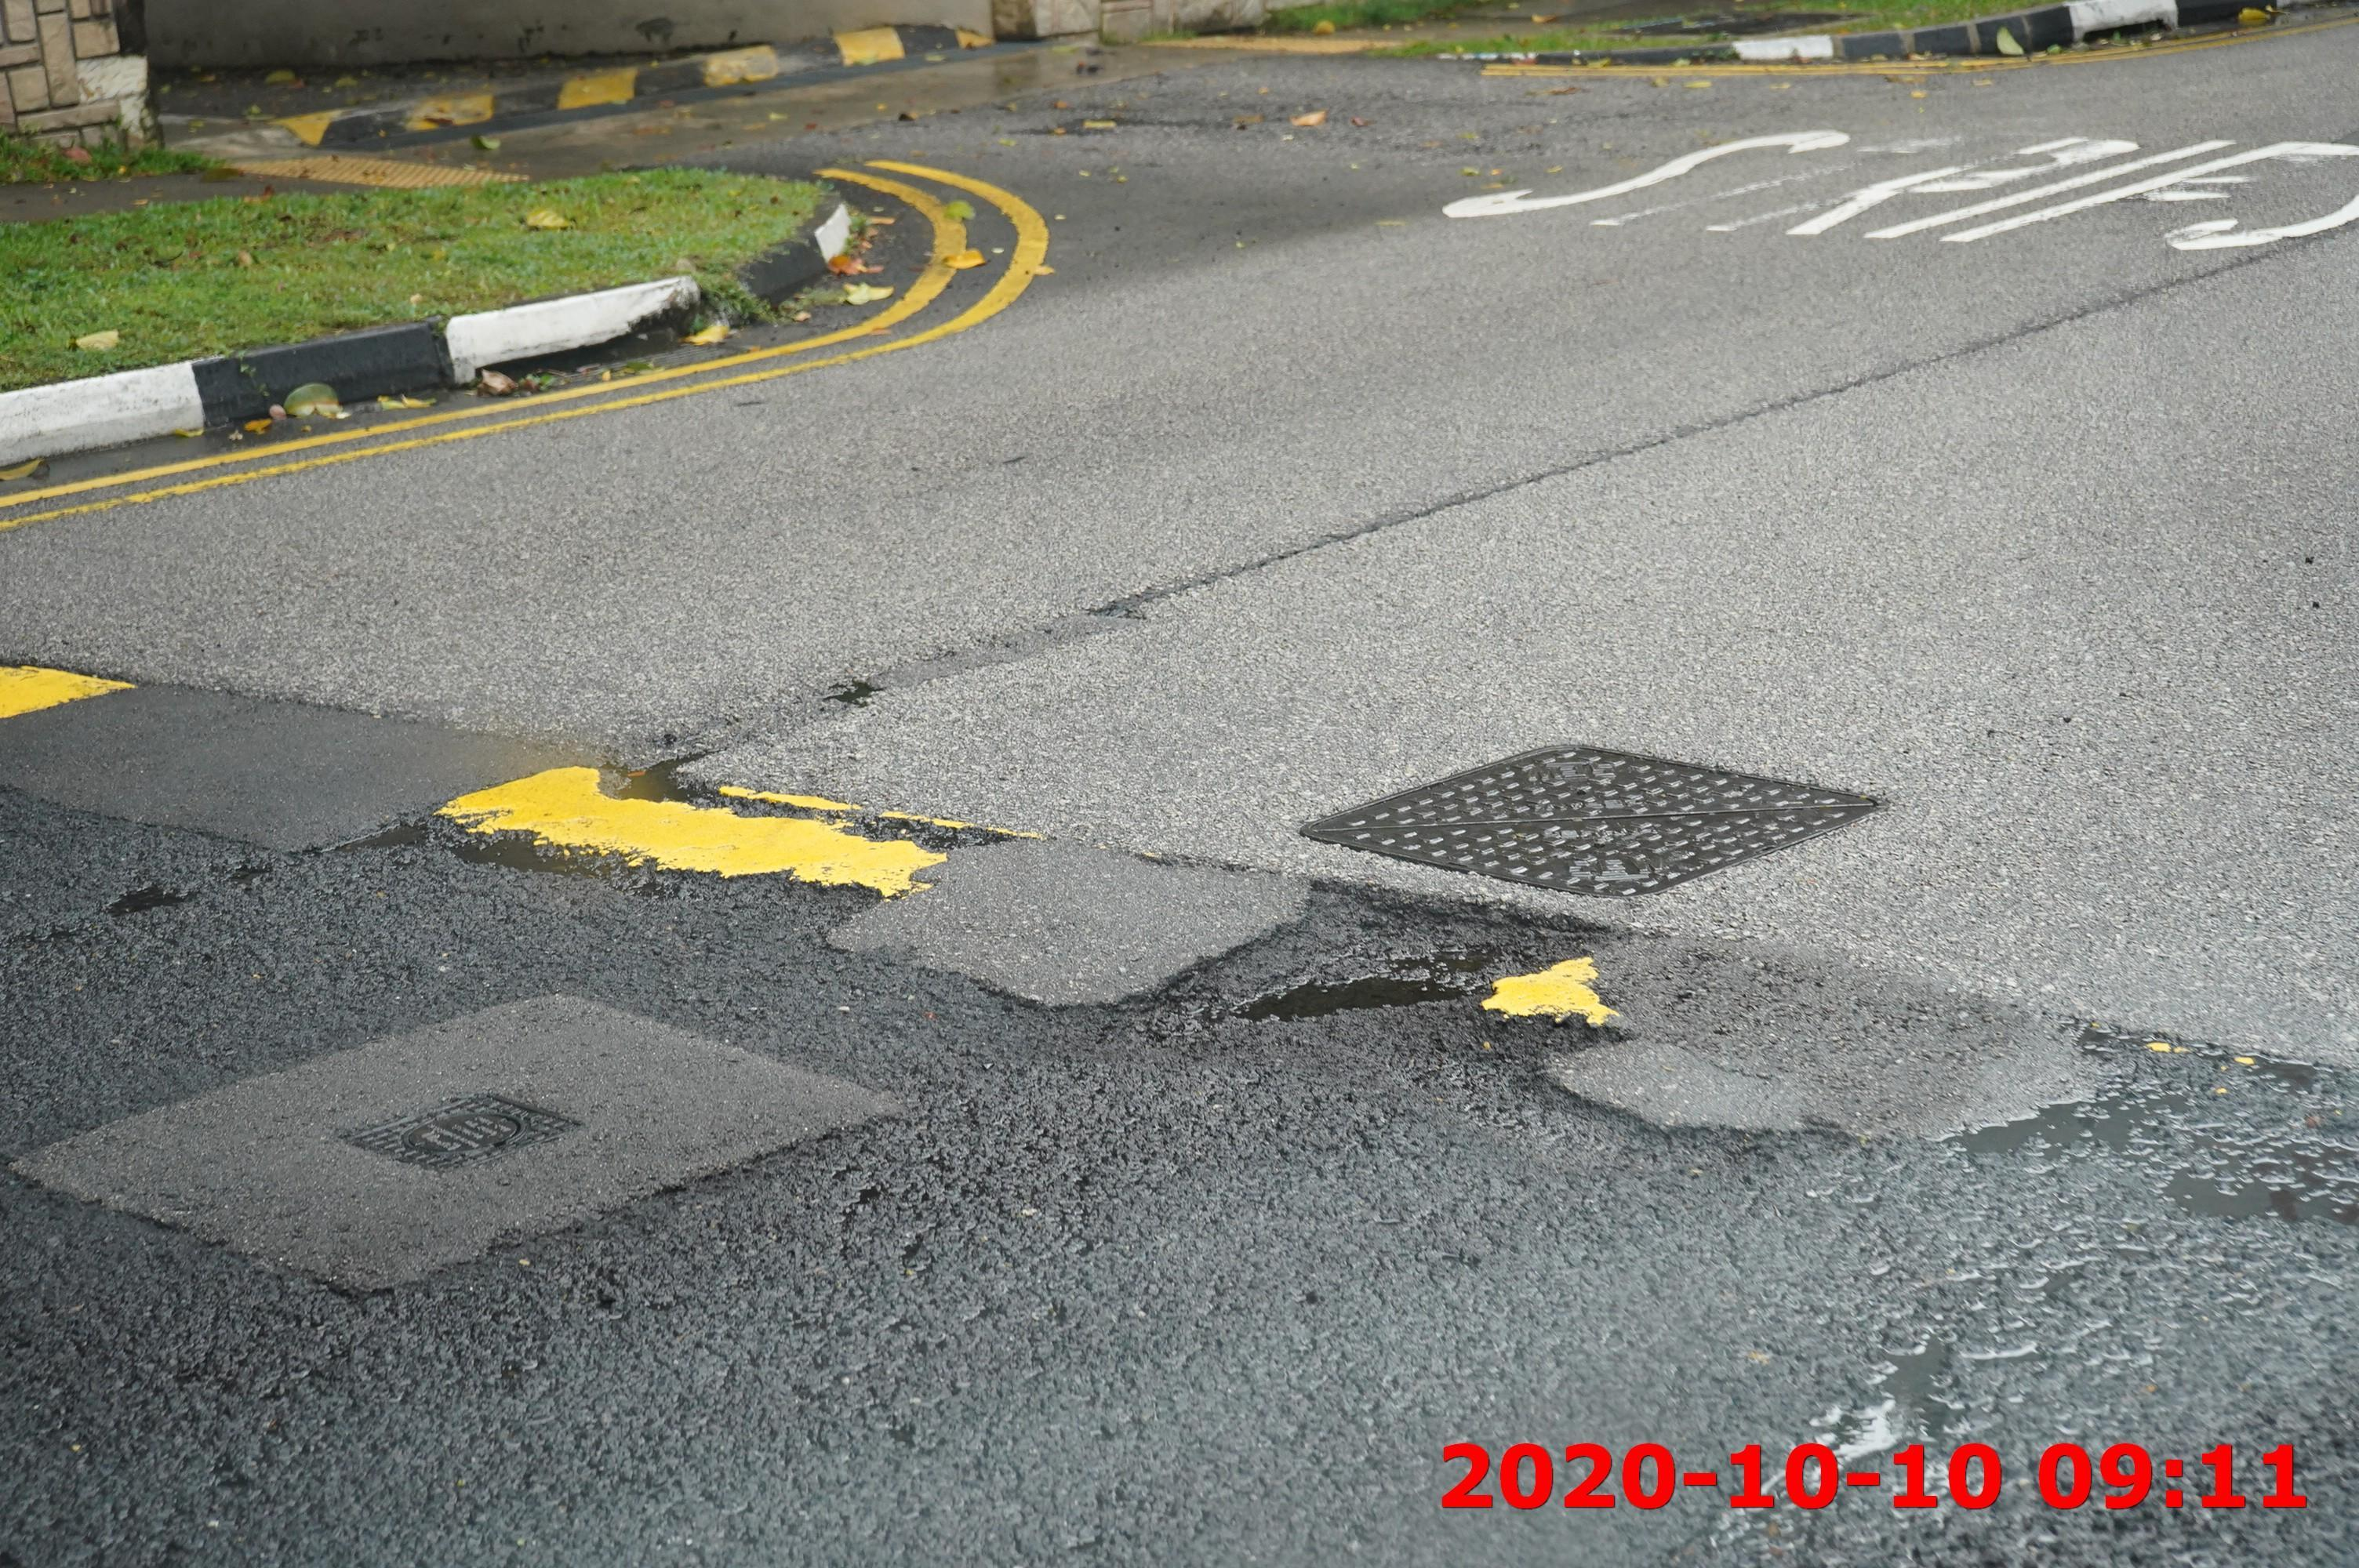peel off with cracks: (1939, 936, 2359, 1248), (1118, 875, 1622, 1043)
peeling off premix: (98, 873, 205, 927)
